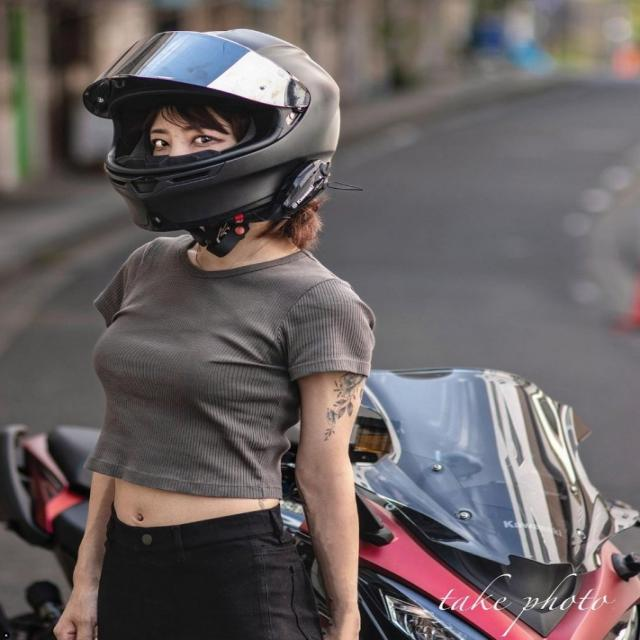helmet: (71, 20, 351, 264)
